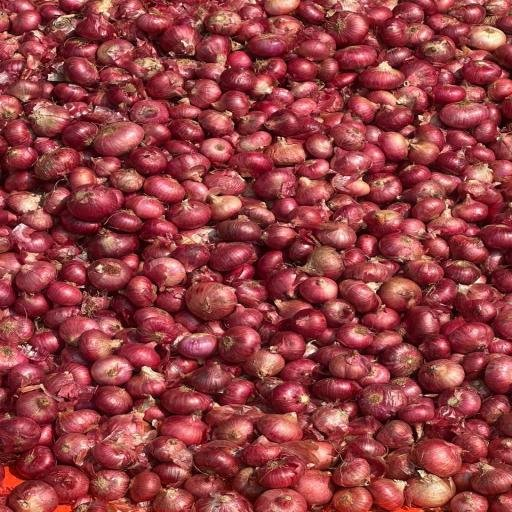healthy: (88, 118, 147, 157), (413, 436, 464, 478), (66, 185, 120, 222), (160, 382, 214, 415), (437, 100, 492, 132), (215, 325, 261, 363), (416, 361, 468, 394), (378, 275, 422, 312), (251, 486, 311, 512), (208, 243, 260, 273), (223, 151, 276, 180), (158, 24, 207, 55), (190, 490, 258, 512), (379, 230, 422, 264), (12, 262, 58, 293), (70, 332, 122, 359), (328, 11, 369, 45), (356, 62, 402, 92), (147, 71, 190, 103), (92, 355, 133, 388), (294, 176, 336, 208), (446, 236, 490, 266), (145, 173, 190, 202), (196, 109, 244, 136), (218, 413, 256, 447), (368, 478, 408, 510), (151, 486, 200, 512), (459, 58, 504, 86), (18, 393, 58, 424), (298, 272, 338, 302), (94, 385, 132, 416), (12, 448, 54, 476), (264, 111, 306, 139), (59, 59, 102, 86), (444, 489, 494, 512), (332, 487, 378, 512), (126, 274, 158, 309), (8, 73, 44, 104), (378, 18, 416, 47), (99, 38, 138, 66), (376, 134, 413, 163), (336, 45, 378, 70), (453, 195, 490, 223), (292, 308, 326, 338), (4, 10, 44, 35), (469, 24, 504, 52), (261, 225, 300, 250), (3, 146, 39, 173), (321, 298, 358, 324), (2, 121, 35, 150), (249, 34, 289, 57), (48, 281, 82, 307), (16, 293, 48, 319), (130, 471, 160, 498), (285, 58, 318, 82), (202, 137, 233, 162), (295, 3, 326, 25), (429, 84, 466, 102)
